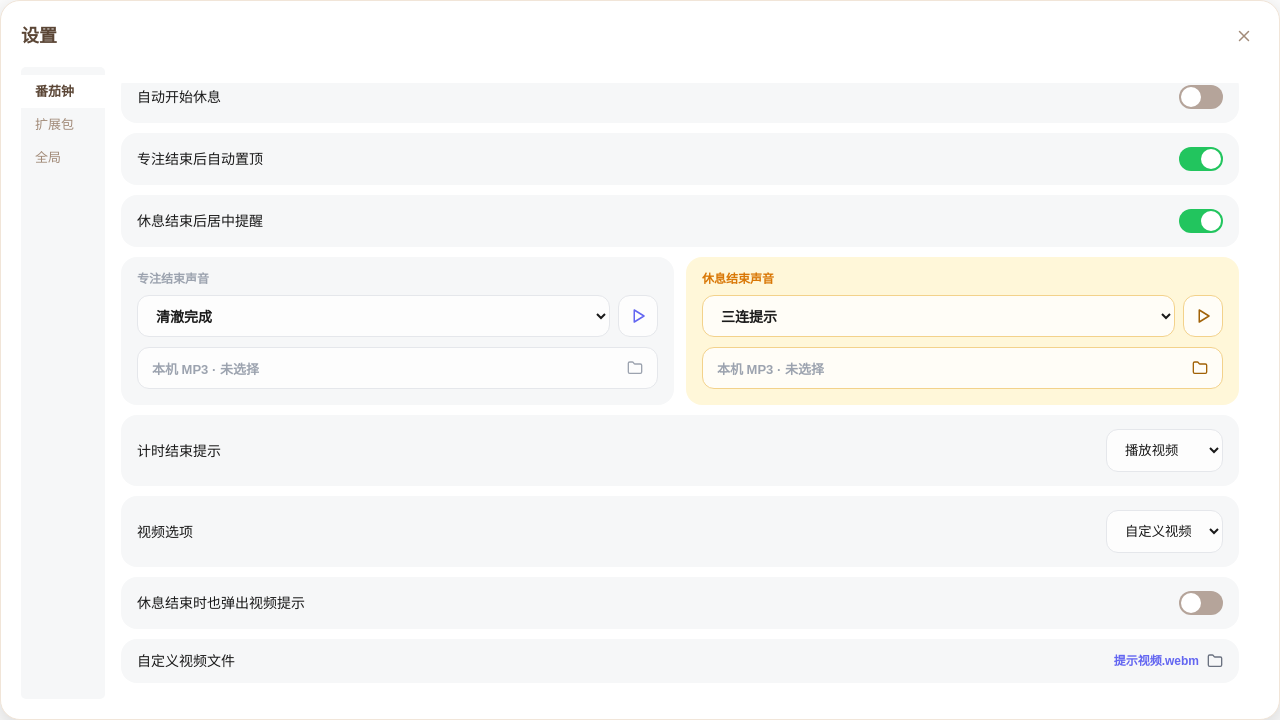
SettingsPanel › keeps the previous custom video when importing a replacement fails
The image size is (1280, 720).
(page scrolled)
Click the button with aria-label "选择自定义视频".
click(186, 661)  # box 121,639 -> 1239,683
(page scrolled)
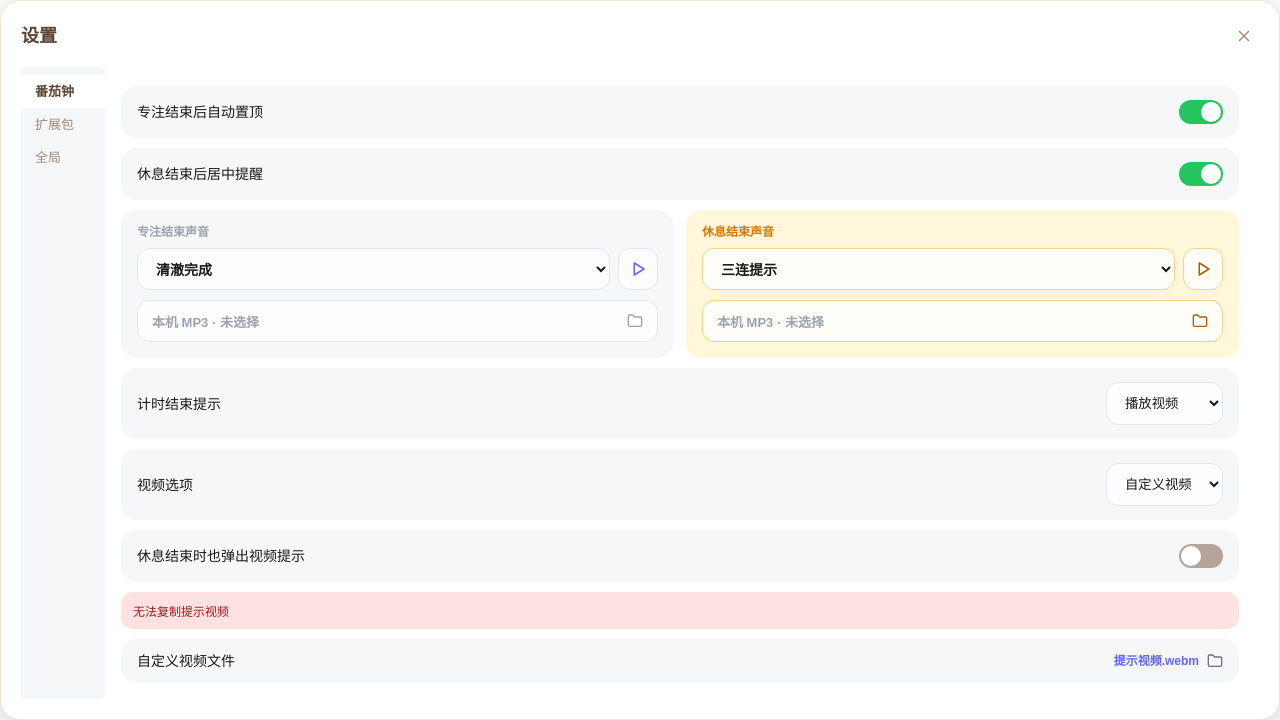
Check: the text "提示视频.webm" is shown, box 1114,655 -> 1199,667
Check: the message reads "无法复制提示视频", box 133,605 -> 229,619
